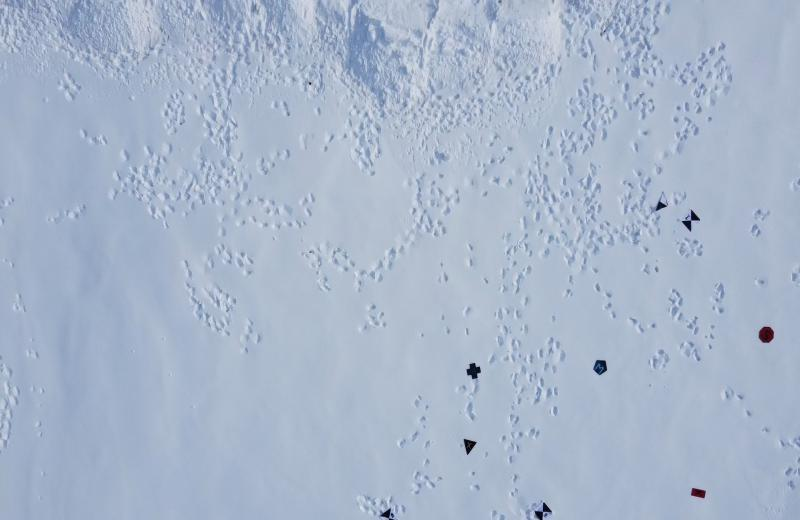Cross: (464, 362, 483, 382)
Octagon: (757, 325, 775, 346)
Pentagon: (592, 357, 608, 375)
Rectangle: (690, 486, 708, 500)
Triangle: (462, 436, 478, 456)
